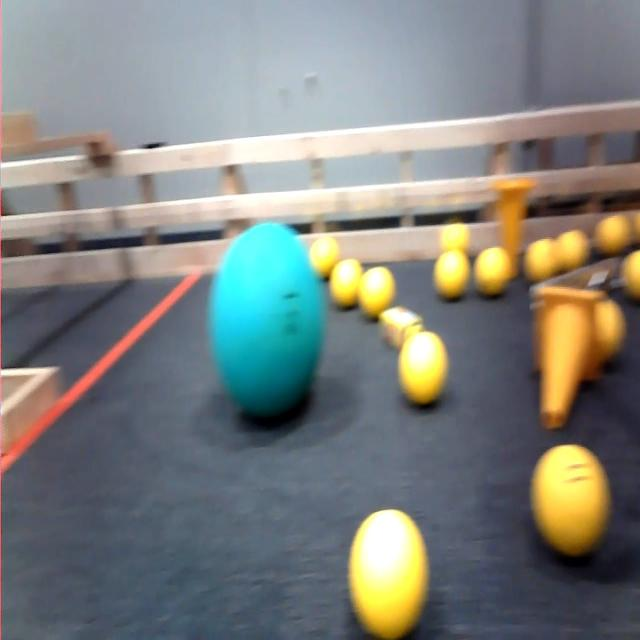fuel: (334, 495, 441, 640), (526, 428, 620, 573), (393, 323, 454, 418), (471, 240, 516, 304), (596, 292, 631, 369), (357, 258, 398, 321), (432, 242, 470, 304), (521, 232, 561, 286), (329, 252, 363, 314), (594, 212, 636, 262), (306, 232, 343, 280), (618, 244, 640, 322), (557, 220, 592, 269), (435, 220, 474, 257)
